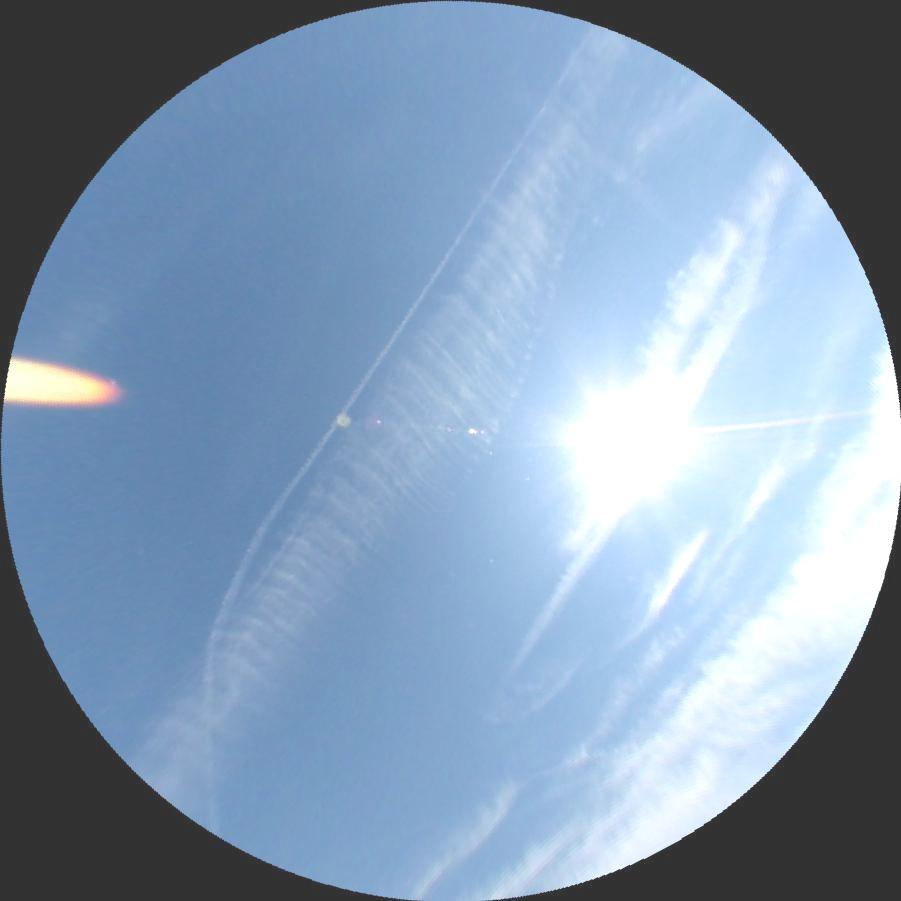contrail old: (130, 0, 600, 835)
contrail veryold: (112, 10, 720, 846), (502, 189, 814, 698), (523, 132, 808, 555), (579, 398, 685, 493), (623, 72, 722, 157), (575, 136, 659, 209)
parasite: (675, 406, 872, 439)
